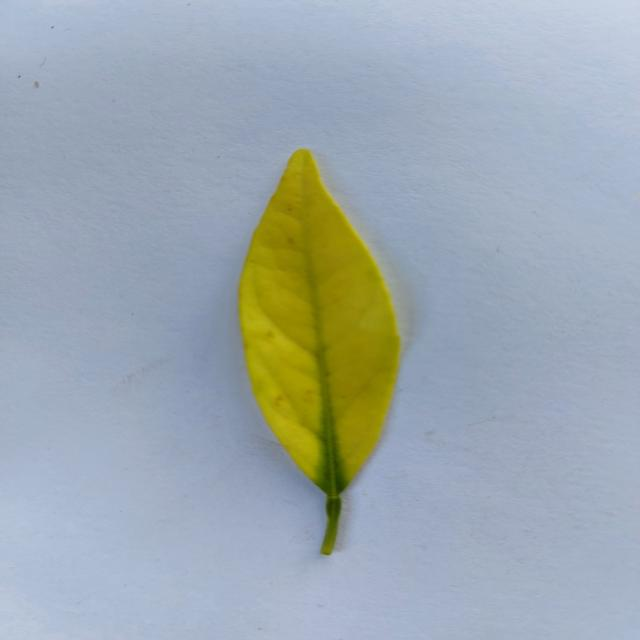greening: (240, 150, 399, 554)
